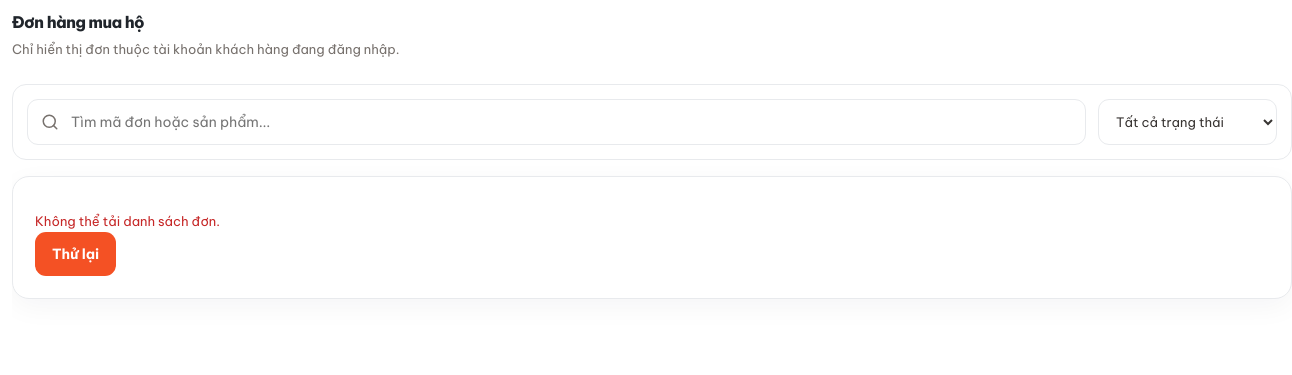
Test case: real customer purchase pages › renders a recoverable error instead of a blank or endless loading screen
Later steps or results of the test are not shown.
Check: the message reads "Không thể tải danh sách đơn.", box [35,213,220,229]
Step 1. Click the button "Thử lại" → (76, 254), box [35,232,116,276]
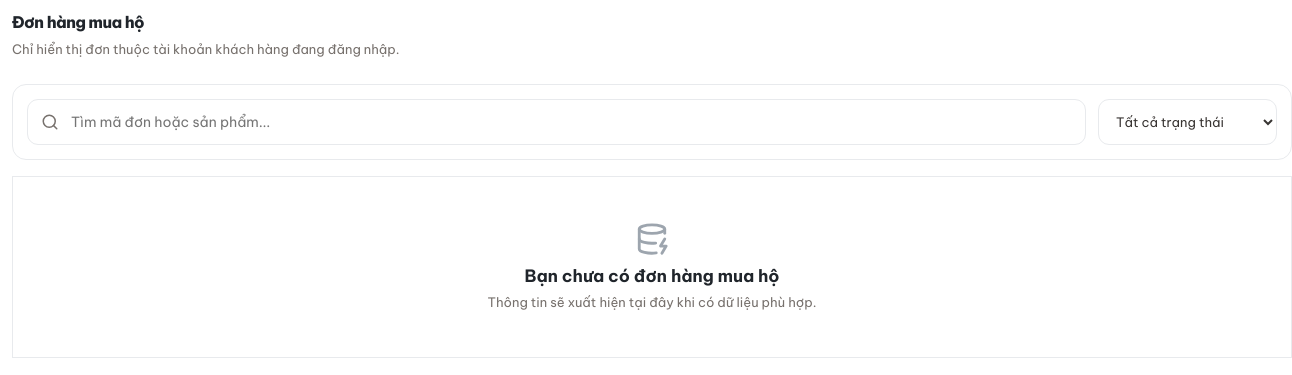
Check: the heading "Bạn chưa có đơn hàng mua hộ" is shown, box [524,266,780,286]
